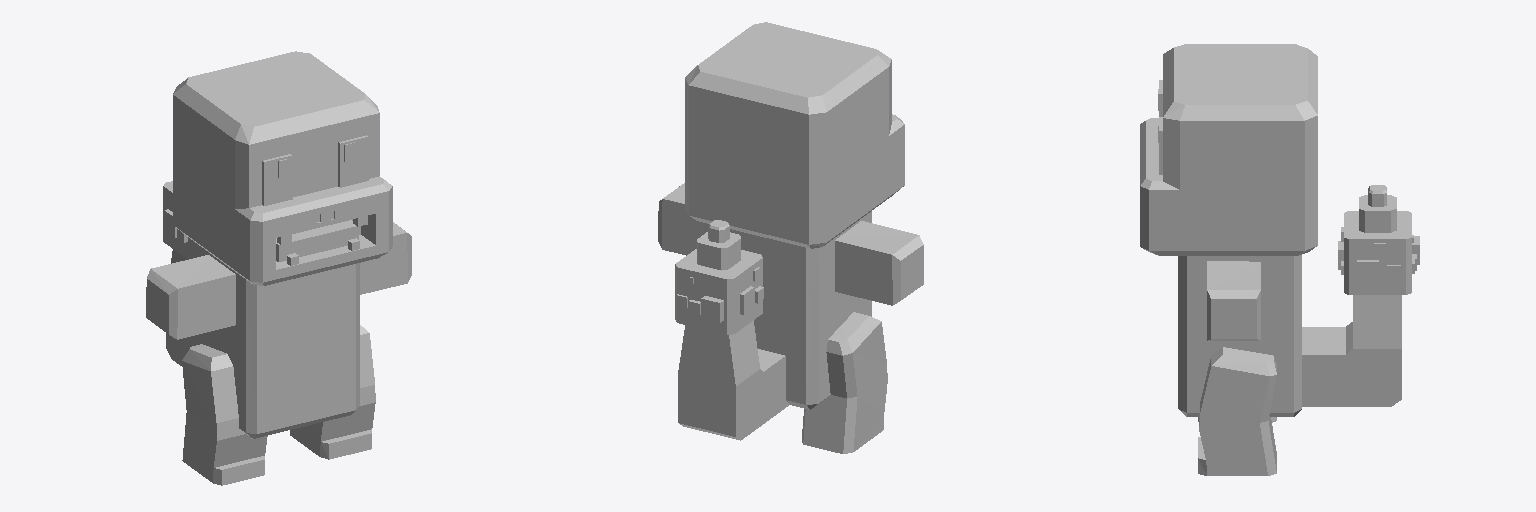
File: 004 - Charmander - Shiny.obj
3 views of the same model, side by side, from view 1: azimuth 30°, elevation 25°; view 2: azimuth 150°, elevation 25°; view 3: azimuth 270°, elevation 25° (orthographic).
Parts seen in each view (by area): view 1: 004 - Charmander - Shiny; view 2: 004 - Charmander - Shiny; view 3: 004 - Charmander - Shiny.
Boxes of the visible parts, <box> form: 004 - Charmander - Shiny: <box>146,51,411,485</box>; 004 - Charmander - Shiny: <box>658,22,923,453</box>; 004 - Charmander - Shiny: <box>1140,44,1419,475</box>.
Bounding box in the file's own units: 1.31 × 1.87 × 1.31.